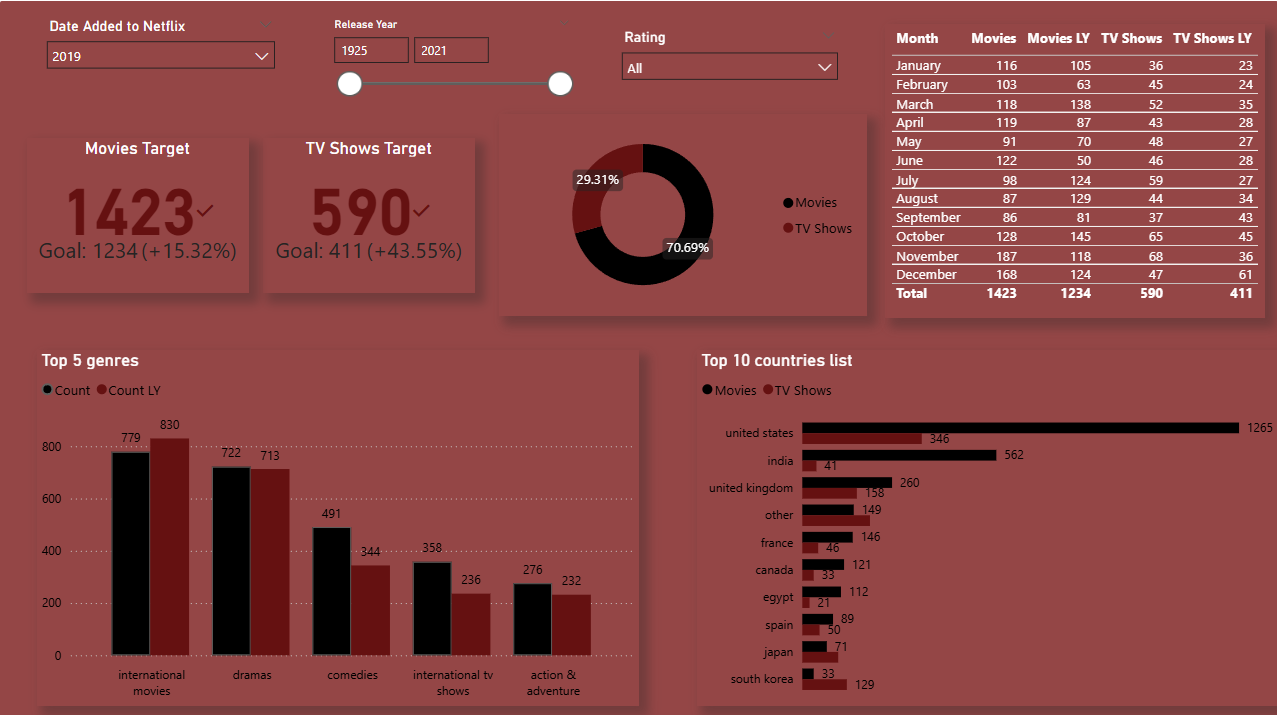

What the dashboard file says about the page in this screenshot:
{"tool":"powerbi","page":{"name":"Page 1","canvas":[1280,720],"ordinal":0},"visuals":[{"type":"slicer","fields":{"Values":["dim_date.Year"]},"box":[38,12,248,82],"z":0},{"type":"slicer","fields":{"Values":["dim_release_year.release_year"]},"box":[322,12,260,102],"z":1000},{"type":"slicer","fields":{"Values":["dim_ratings.rating"]},"box":[612,24,236,78],"z":2000},{"type":"kpi","title":"Movies Target","fields":{"Indicator":["Key Measures.Movies"],"Goal":["Key Measures.Movies LY"],"TrendLine":["dim_date.Year"]},"box":[28,138,222,156],"z":3000},{"type":"kpi","title":"TV Shows Target","fields":{"Indicator":["Key Measures.TV_Shows"],"Goal":["Key Measures.TV Shows LY"],"TrendLine":["dim_date.Year"]},"box":[264,138,212,156],"z":4000},{"type":"donutChart","fields":{"Y":["Table.Movies","Table.TV Shows"]},"box":[500,114,368,202],"z":5000},{"type":"clusteredBarChart","title":"Top 10 countries list","fields":{"Category":["dim_countries.each_country"],"Y":["Key Measures.Movies for country","Key Measures.TV Shows for country"]},"box":[697.5,350,582.5,356.2],"z":6000},{"type":"tableEx","fields":{"Values":["dim_date.Date.Variation.Date Hierarchy.Month","Key Measures.Movies","Key Measures.Movies LY","Key Measures.TV Shows","Key Measures.TV Shows LY"]},"box":[886,24,380,294],"z":7000},{"type":"clusteredColumnChart","title":"Top 5 genres","fields":{"Category":["dim_genres.genre"],"Y":["Key Measures.Count","Key Measures.Count LY"]},"box":[37.5,350,602.5,356.2],"z":8000}]}

Visuals, with their boxes in screenshot pixels (x1, y1, x2, y2), scaled from the page's 1280x720 canvas onto the 1277x715 screenshot:
slicer - dim_date.Year: 38, 12, 285, 93
slicer - dim_release_year.release_year: 321, 12, 581, 113
slicer - dim_ratings.rating: 611, 24, 846, 101
"Movies Target" kpi: 28, 137, 249, 292
"TV Shows Target" kpi: 263, 137, 475, 292
donutChart - Table.Movies x Table.TV Shows: 499, 113, 866, 314
"Top 10 countries list" clusteredBarChart: 696, 348, 1276, 701
tableEx - dim_date.Date.Variation.Date Hierarchy.Month x Key Measures.Movies: 884, 24, 1263, 316
"Top 5 genres" clusteredColumnChart: 37, 348, 638, 701
